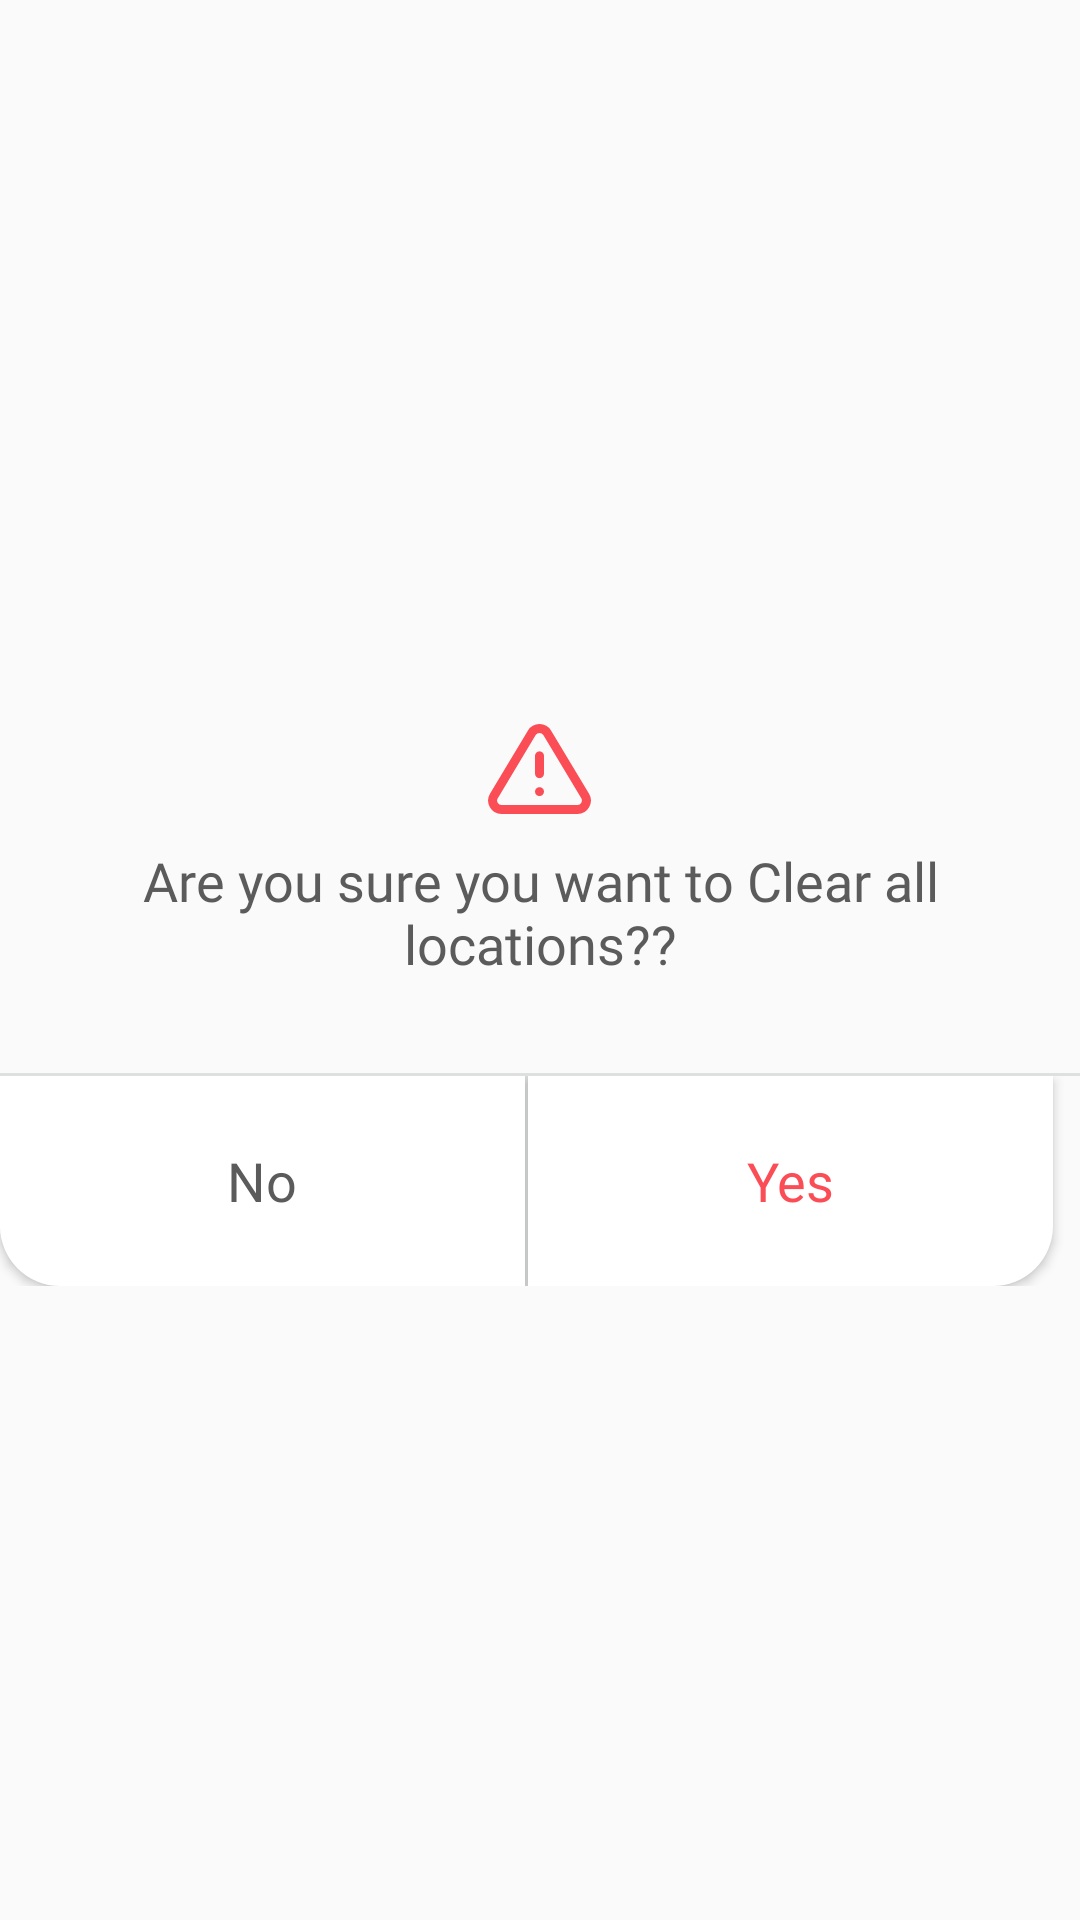

Where to tap for icons on this 1080px×1920px app screen, as [x,y]:
alert: [539,769]
